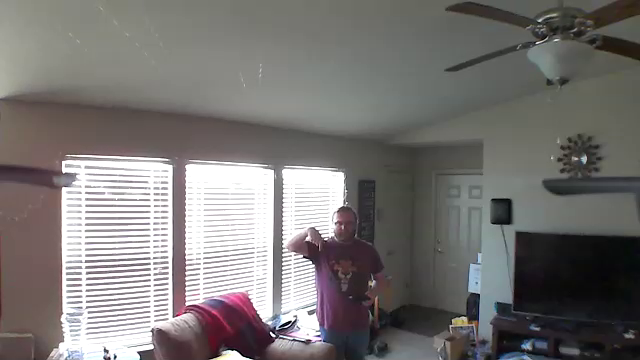down: (303, 224, 326, 255)
